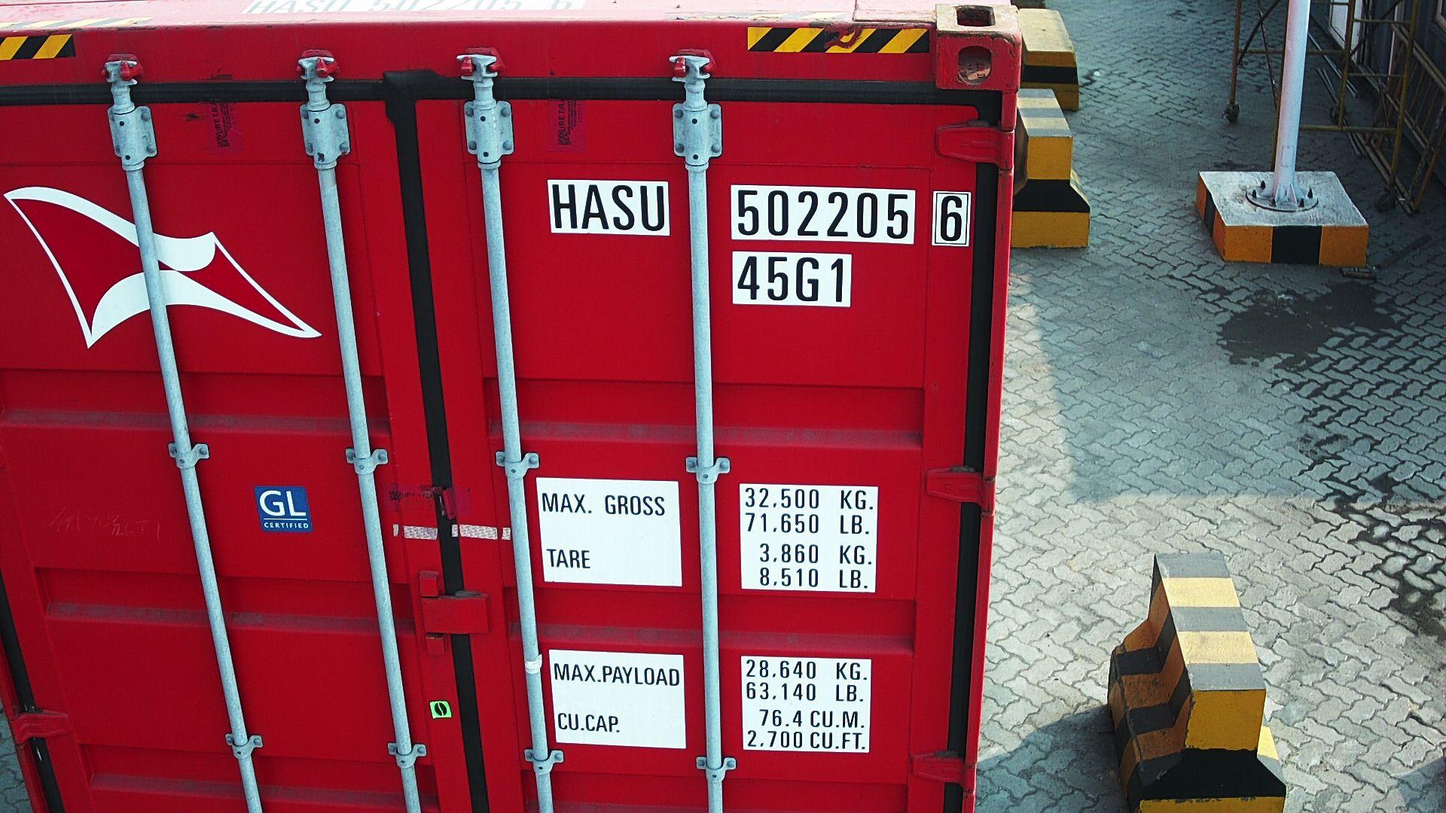container-numbers: (545, 179, 977, 249), (731, 251, 852, 307), (237, 0, 582, 17)
